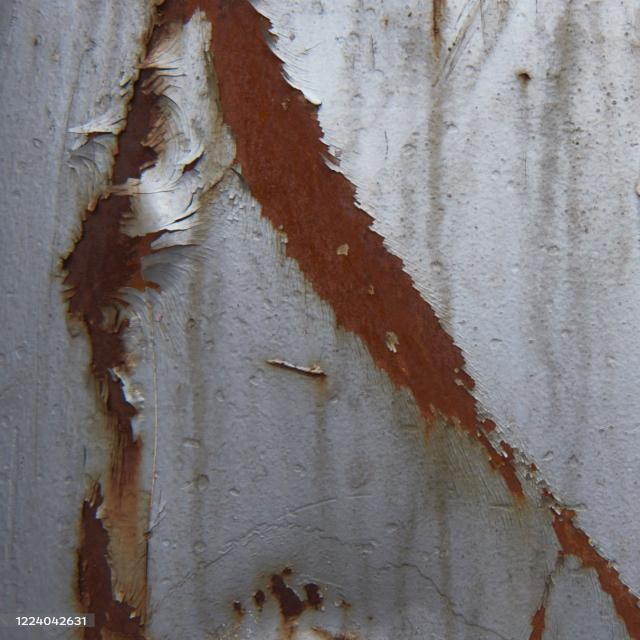Uniform Corrosion: (166, 0, 481, 434), (63, 195, 148, 430), (551, 508, 639, 640), (224, 566, 372, 640), (78, 483, 144, 640), (113, 91, 159, 184), (473, 422, 523, 498), (529, 605, 546, 640)
